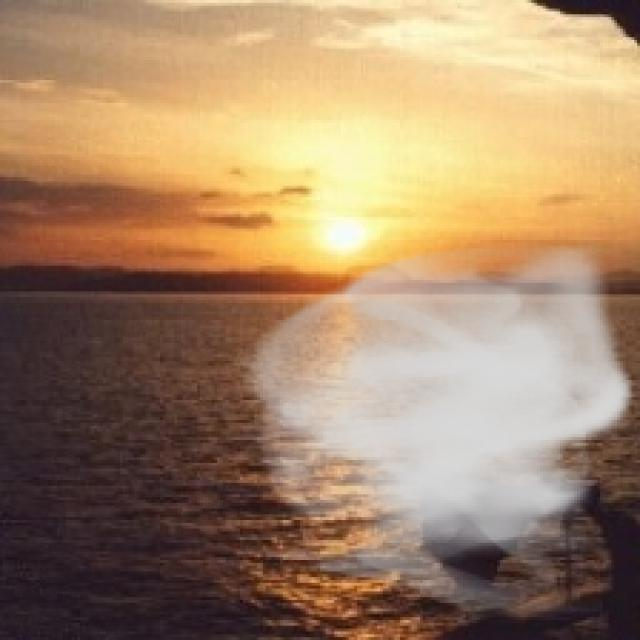Smoke: (232, 234, 637, 623)
